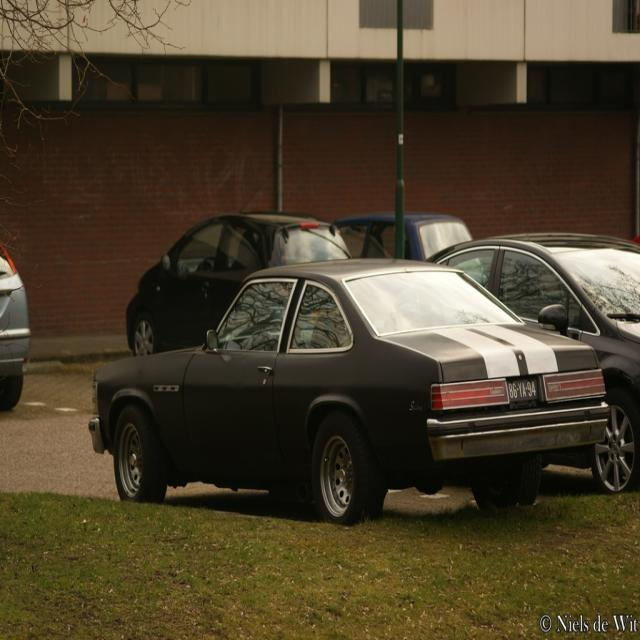car: (86, 257, 609, 523)
